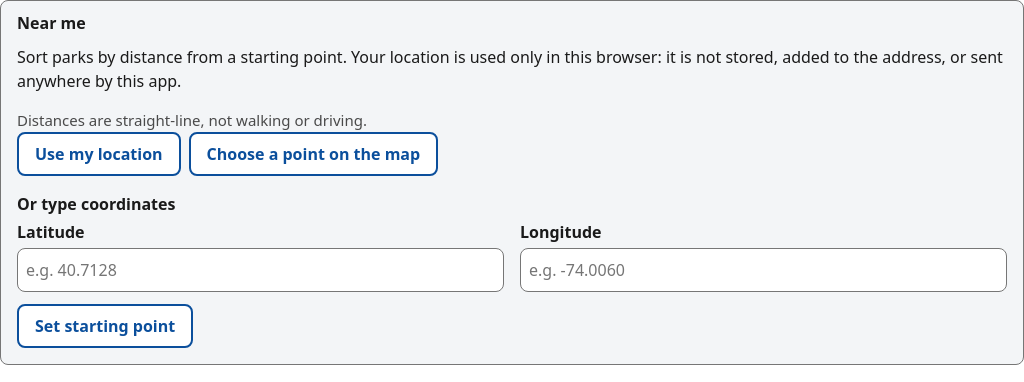
Scenario: NearMePanel: device location › shows a busy state while waiting
Click the button "Use my location" at (99,154), box [17,132,181,176]
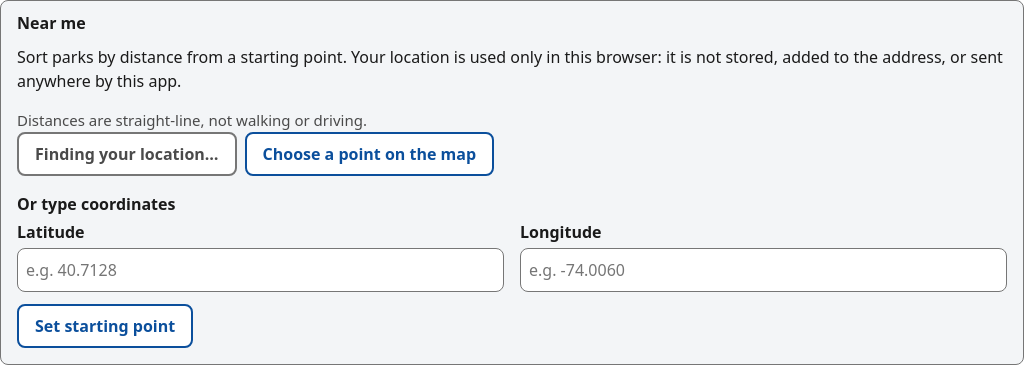
Expected: the button "Finding your location…" is disabled, [17,132,236,176]
